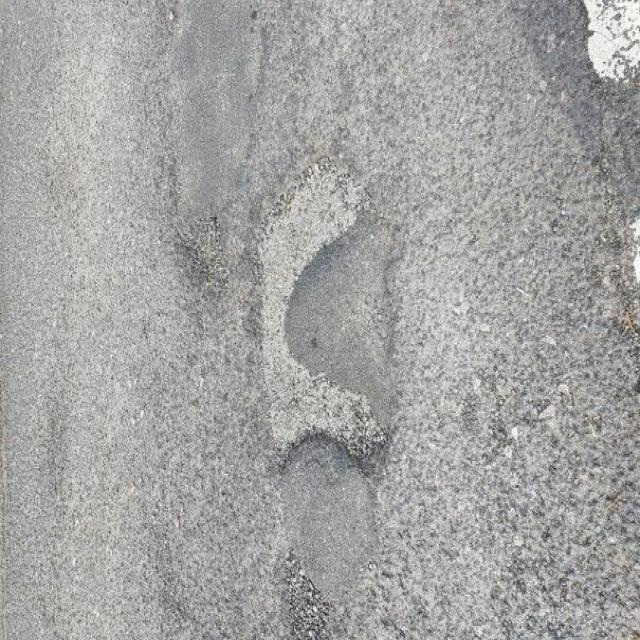pothole: (241, 142, 396, 481)
